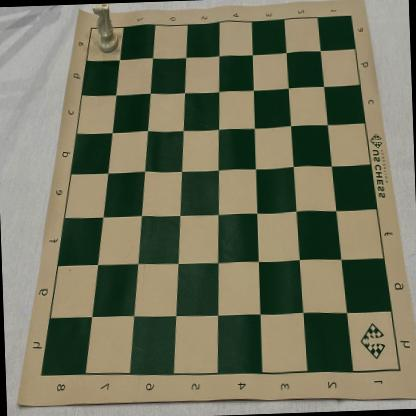white-knight: (92, 3, 119, 55)
